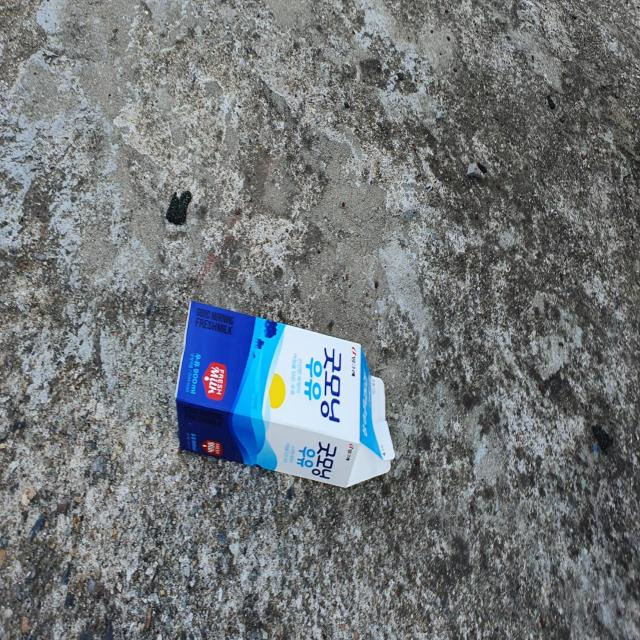paperpack: (175, 300, 395, 487)
